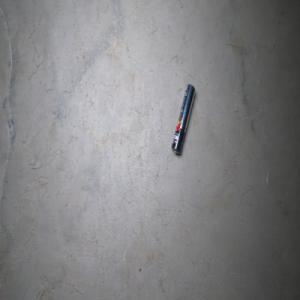Battery: (171, 83, 196, 156)
